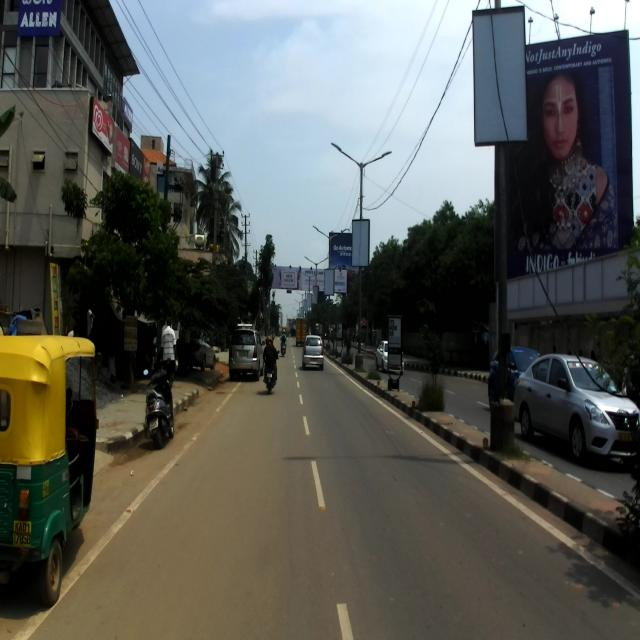autorickshaw: (0, 332, 100, 606)
car: (512, 353, 640, 464), (228, 322, 265, 379), (301, 332, 324, 369)
motorcycle: (263, 349, 279, 393)
scooter: (143, 355, 174, 448)
